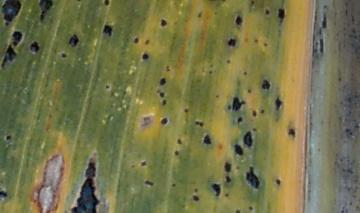tarspot: (70, 160, 101, 213), (38, 155, 61, 213), (2, 1, 22, 26), (246, 165, 261, 189), (1, 45, 16, 68), (39, 1, 53, 22), (138, 114, 153, 131), (232, 96, 246, 110), (68, 34, 80, 48), (103, 23, 113, 38), (211, 183, 221, 198), (320, 13, 328, 31), (12, 32, 23, 45), (29, 40, 40, 53), (244, 131, 252, 147), (275, 95, 282, 111), (234, 144, 244, 155), (262, 78, 271, 90), (143, 178, 154, 187), (203, 134, 212, 145), (287, 127, 296, 138), (278, 8, 284, 23), (235, 15, 242, 27), (224, 162, 232, 172), (319, 38, 324, 54), (228, 38, 236, 47), (1, 191, 7, 201), (139, 160, 147, 167), (161, 117, 168, 125), (160, 77, 167, 85), (264, 8, 271, 16), (133, 35, 139, 44), (275, 177, 281, 186), (5, 134, 12, 141), (142, 53, 149, 60), (214, 92, 221, 99), (161, 19, 167, 27), (33, 191, 37, 203), (195, 121, 203, 127), (238, 116, 243, 125), (104, 83, 111, 89), (192, 196, 199, 202), (183, 108, 190, 114), (223, 192, 230, 198), (103, 1, 111, 6), (197, 10, 202, 18), (226, 102, 231, 110), (61, 52, 67, 58), (144, 39, 150, 45), (176, 138, 182, 144), (225, 176, 231, 182), (226, 58, 232, 64), (162, 99, 167, 106), (252, 110, 257, 117), (263, 41, 268, 48), (236, 165, 241, 172), (247, 89, 252, 95), (260, 109, 266, 114), (174, 151, 180, 156), (207, 69, 213, 74), (243, 70, 248, 76), (165, 65, 170, 71), (251, 127, 257, 132), (236, 208, 241, 213), (249, 206, 254, 211), (254, 38, 259, 43), (159, 93, 165, 97), (193, 188, 199, 192), (251, 1, 255, 6), (172, 183, 176, 188)
